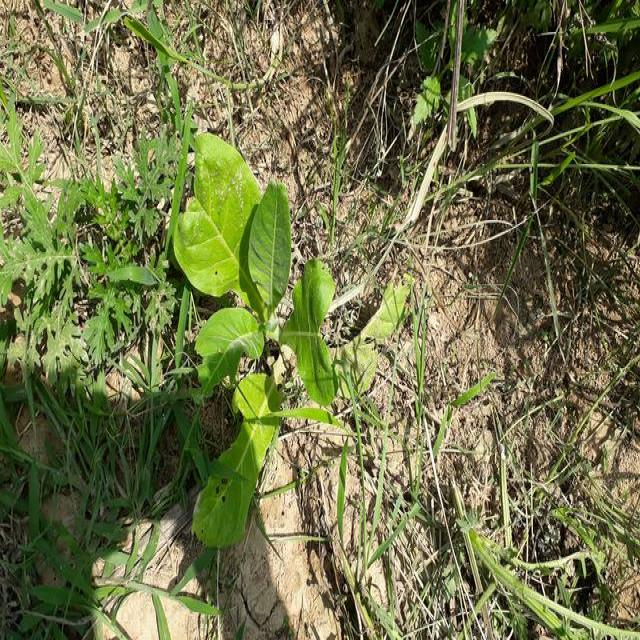crop: (180, 124, 406, 558)
